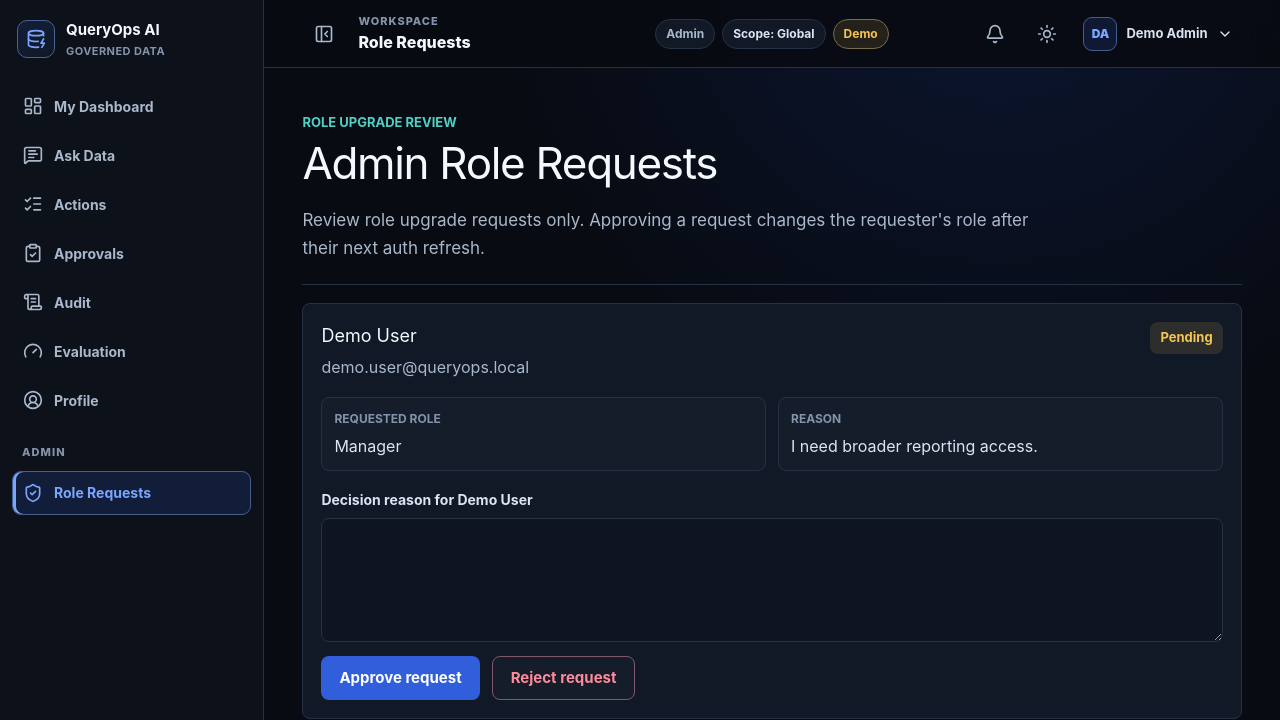
Admin Role Requests › reloads the authoritative state after a losing reject
The image size is (1280, 720).
Type "Review" into the text box labelled "Decision reason for Demo User" at x=772, y=580, box left=321, top=518, right=1223, bottom=642
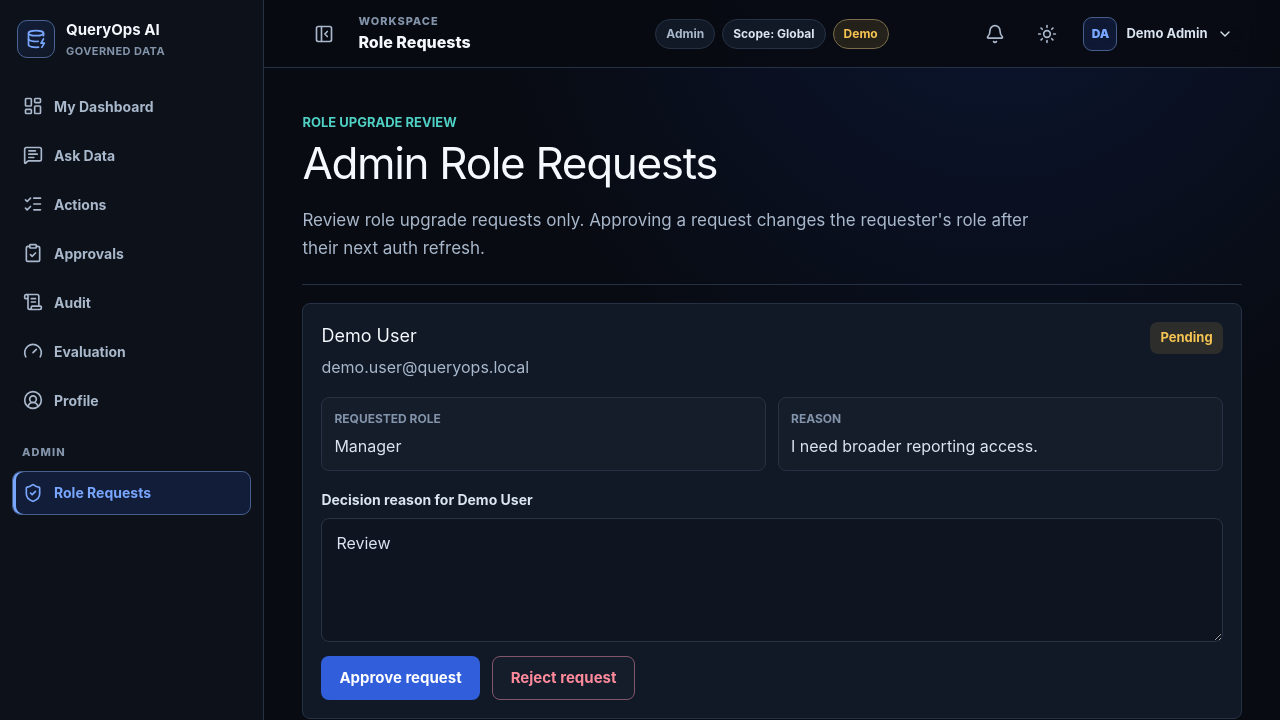
Click the button "Reject request" at x=564, y=678, box left=492, top=656, right=636, bottom=700
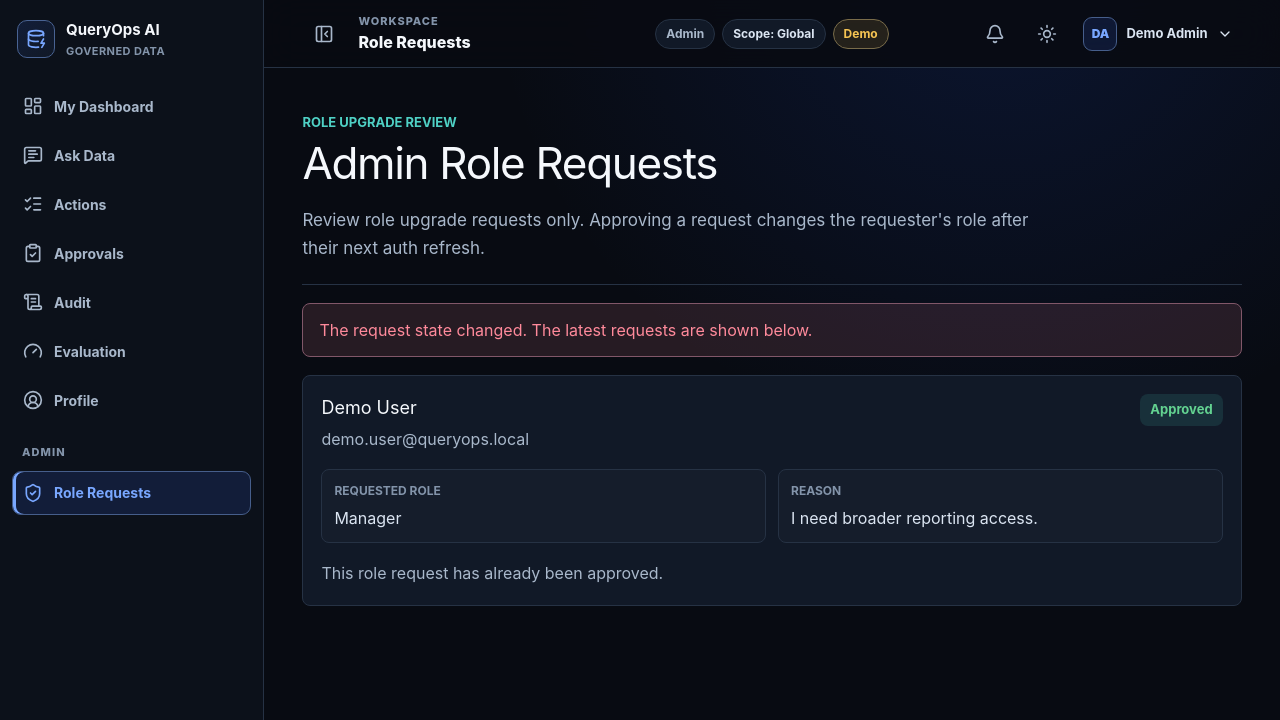
Check: the message reads "The request state changed. The latest requests are shown below.", box left=319, top=320, right=812, bottom=340
